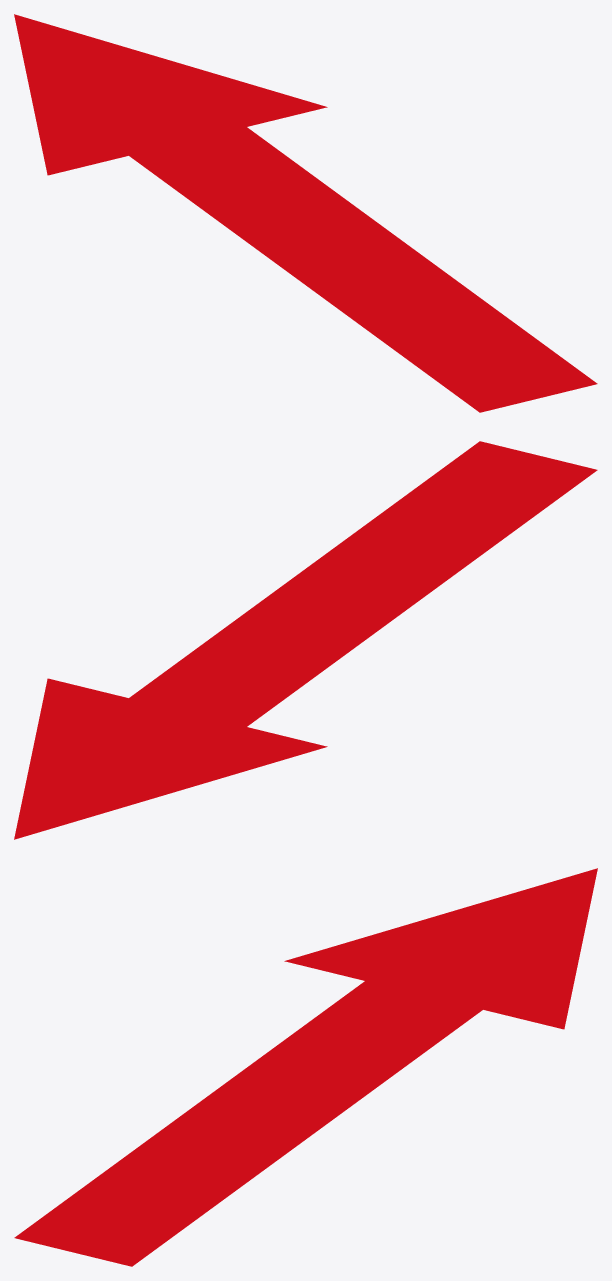
File: arrow.fbx
3 views of the same model, one above another, from view 1: azimuth 30°, elevation 25°; view 2: azimuth 150°, elevation 25°; view 3: azimuth 330°, elevation 25° (orthographic).
Parts seen in each view (by area): view 1: Plane; view 2: Plane; view 3: Plane.
Boxes of the visible parts, x1,y1,x2,y2 form: Plane: (14,14,597,412); Plane: (14,441,597,839); Plane: (14,868,597,1266).
Size of the model in its own units: 82.06 by 4.34e-05 by 266.
